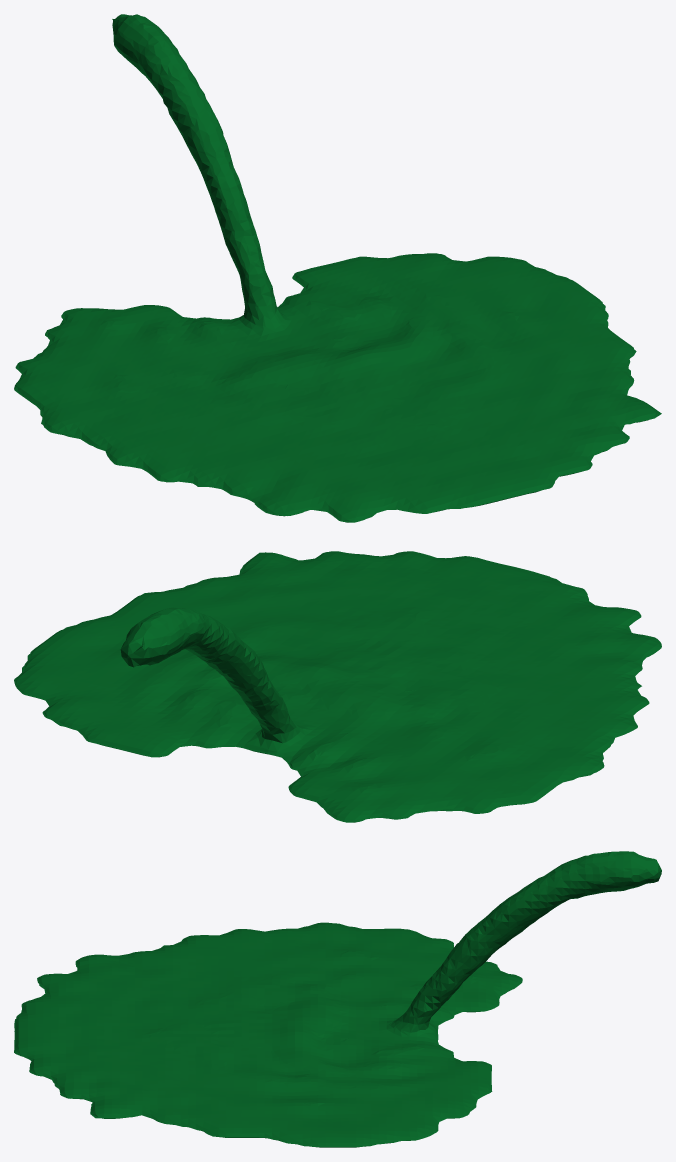
The model's file is fluid_19.fbx.
3 views of the same model, one above another, from view 1: azimuth 30°, elevation 25°; view 2: azimuth 150°, elevation 25°; view 3: azimuth 270°, elevation 25° (orthographic). The views are drawn at different scales.
Visible parts, largest first — view 1: Cube; view 2: Cube; view 3: Cube.
Boxes of the visible parts, x1,y1,x2,y2 form: Cube: (14, 14, 661, 522); Cube: (14, 551, 661, 822); Cube: (14, 851, 661, 1147).
Bounding box in the file's own units: 456 × 176 × 557.
